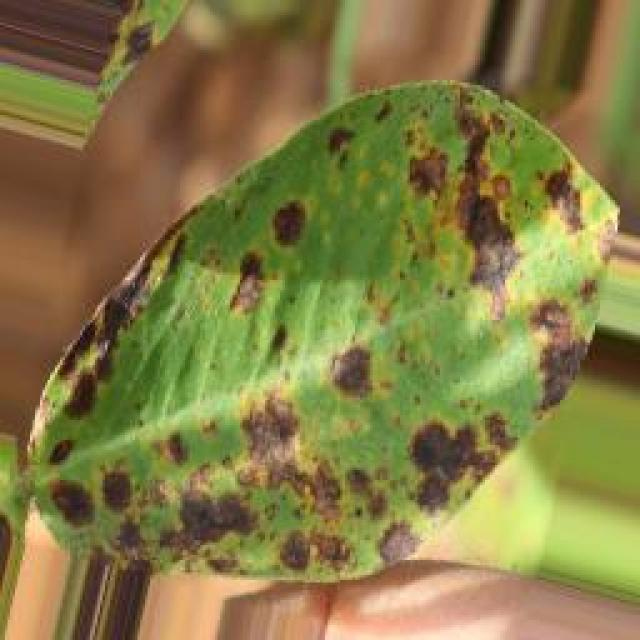Yellowish: (15, 51, 607, 609)
